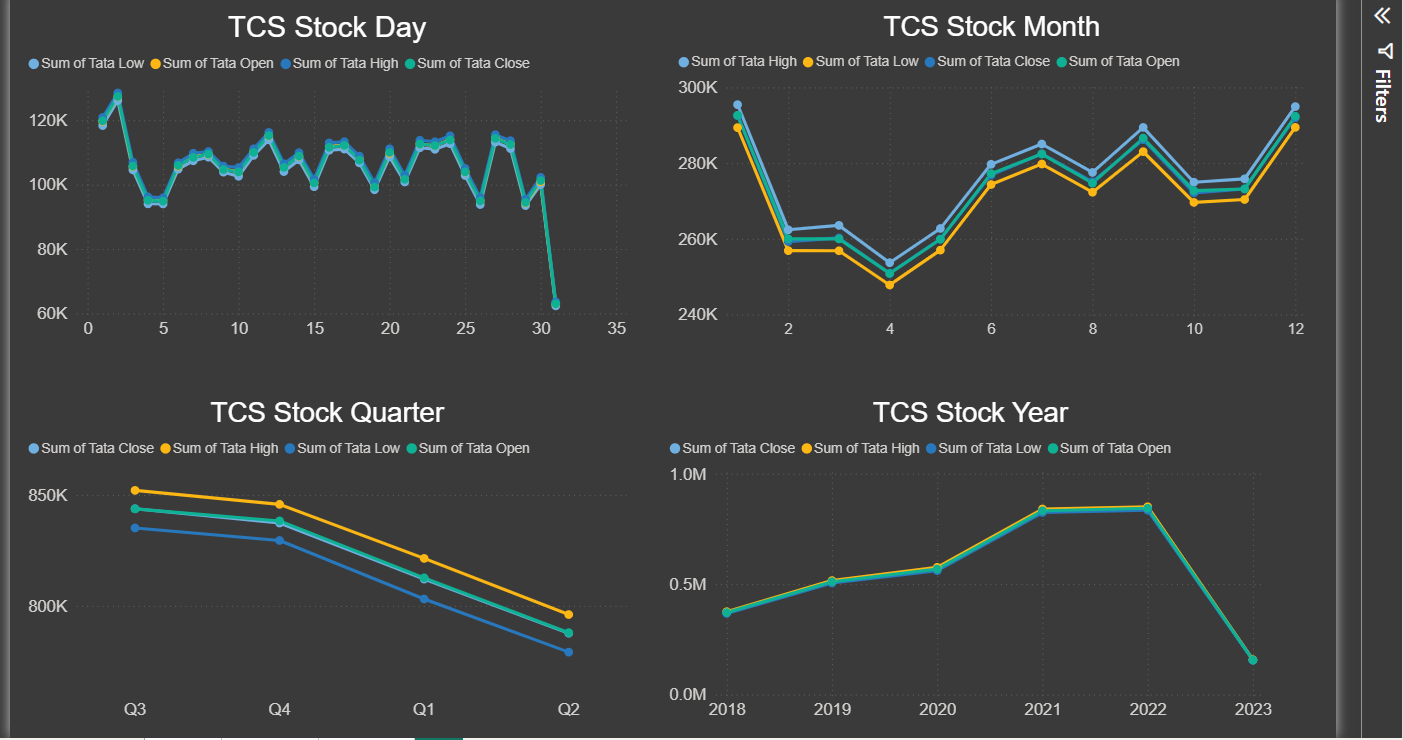

Layout of this report page (visuals, bound fields, positions):
{"tool":"powerbi","page":{"name":"Page 2","canvas":[1280,720],"ordinal":1},"visuals":[{"type":"lineChart","title":"TCS Stock Day","fields":{"Category":["TCS NS (1).Day"],"Y":["Sum(TCS NS (1).Tata Low)","Sum(TCS NS (1).Tata Open)","Sum(TCS NS (1).Tata High)","Sum(TCS NS (1).Tata Close)"]},"box":[12.2,18.3,588.2,324.1],"z":0},{"type":"lineChart","title":"TCS Stock  Month","fields":{"Category":["TCS NS (1).Month"],"Y":["Sum(TCS NS (1).Tata High)","Sum(TCS NS (1).Tata Low)","Sum(TCS NS (1).Tata Close)","Sum(TCS NS (1).Tata Open)"]},"box":[639.5,18.3,616.3,324.1],"z":1000},{"type":"lineChart","title":"TCS Stock Quarter","fields":{"Category":["TCS NS (1).Quarter"],"Y":["Sum(TCS NS (1).Tata Close)","Sum(TCS NS (1).Tata High)","Sum(TCS NS (1).Tata Low)","Sum(TCS NS (1).Tata Open)"]},"box":[12.2,391.3,588.2,319.2],"z":2000},{"type":"lineChart","title":"TCS Stock Year","fields":{"Category":["TCS NS (1).Year"],"Y":["Sum(TCS NS (1).Tata Close)","Sum(TCS NS (1).Tata High)","Sum(TCS NS (1).Tata Low)","Sum(TCS NS (1).Tata Open)"]},"box":[631,391.3,591.9,319.2],"z":3000}]}

Visuals, with their boxes on the page's 1280x720 design canvas (x1, y1, x2, y2). These are canvas units, not pixel positions in the 1403x740 screenshot, which may show the page scaled, cropped or inside an application window:
"TCS Stock Day" lineChart: 12, 18, 600, 342
"TCS Stock  Month" lineChart: 640, 18, 1256, 342
"TCS Stock Quarter" lineChart: 12, 391, 600, 710
"TCS Stock Year" lineChart: 631, 391, 1223, 710
